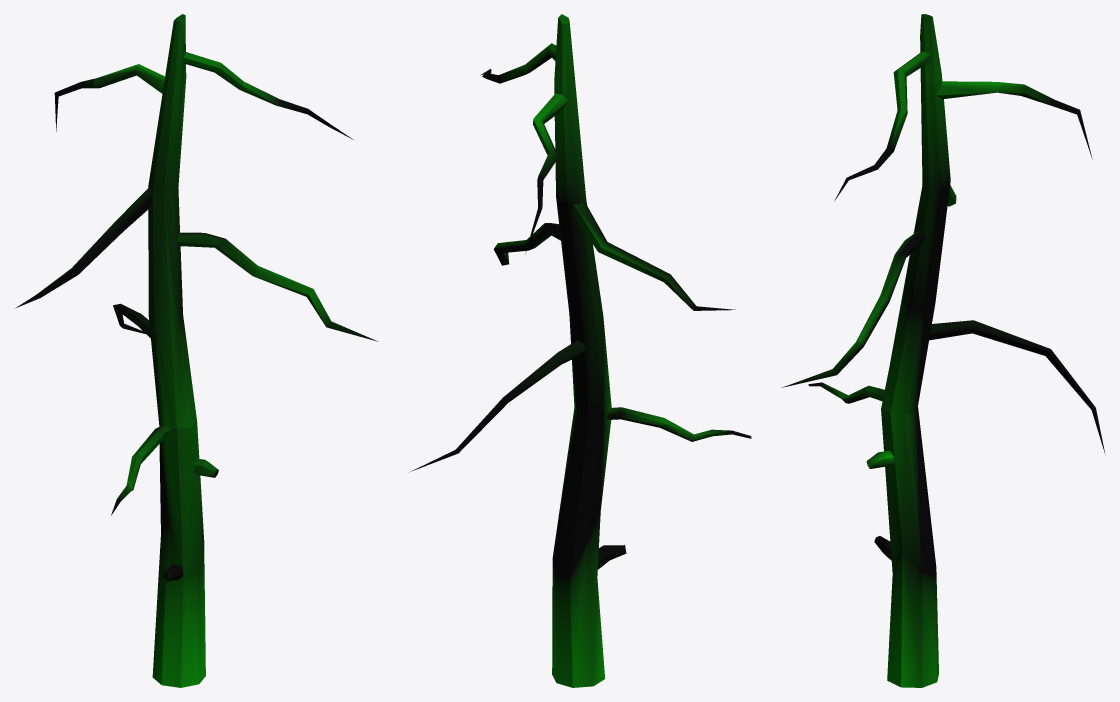
The model's file is SM_Collision_PineDead02.fbx.
3 renders of one model, left to right at view 1: azimuth 30°, elevation 25°; view 2: azimuth 150°, elevation 25°; view 3: azimuth 270°, elevation 25°, orthographic. The views are drawn at different scales.
Visible parts, largest first — view 1: SM_Collision_PineDead02; view 2: SM_Collision_PineDead02; view 3: SM_Collision_PineDead02.
Part boxes in pixels (x1,y1,x2,y2): SM_Collision_PineDead02: [15, 14, 378, 687]; SM_Collision_PineDead02: [410, 14, 751, 687]; SM_Collision_PineDead02: [781, 14, 1104, 687].
Size of the model in its own units: 566 by 1191 by 525.
